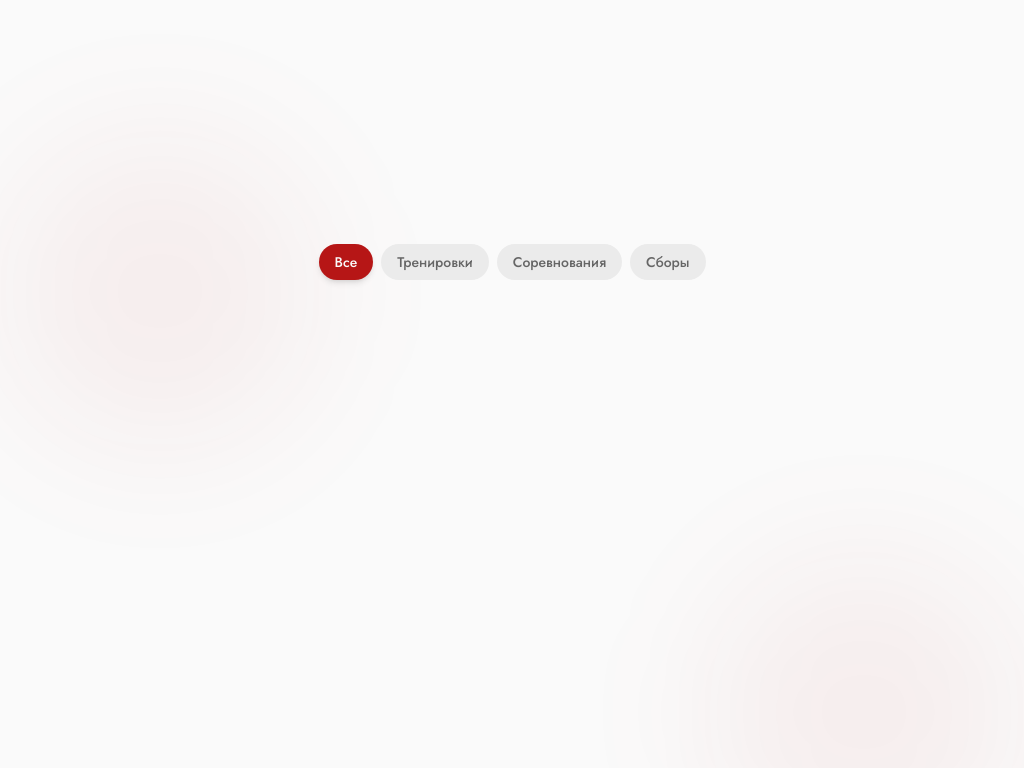
Gallery Component › renders fallback default photos when API fails
# Category tabs still work on fallback
Click the tab "Тренировки" at (435, 262), box [381,244,489,280]
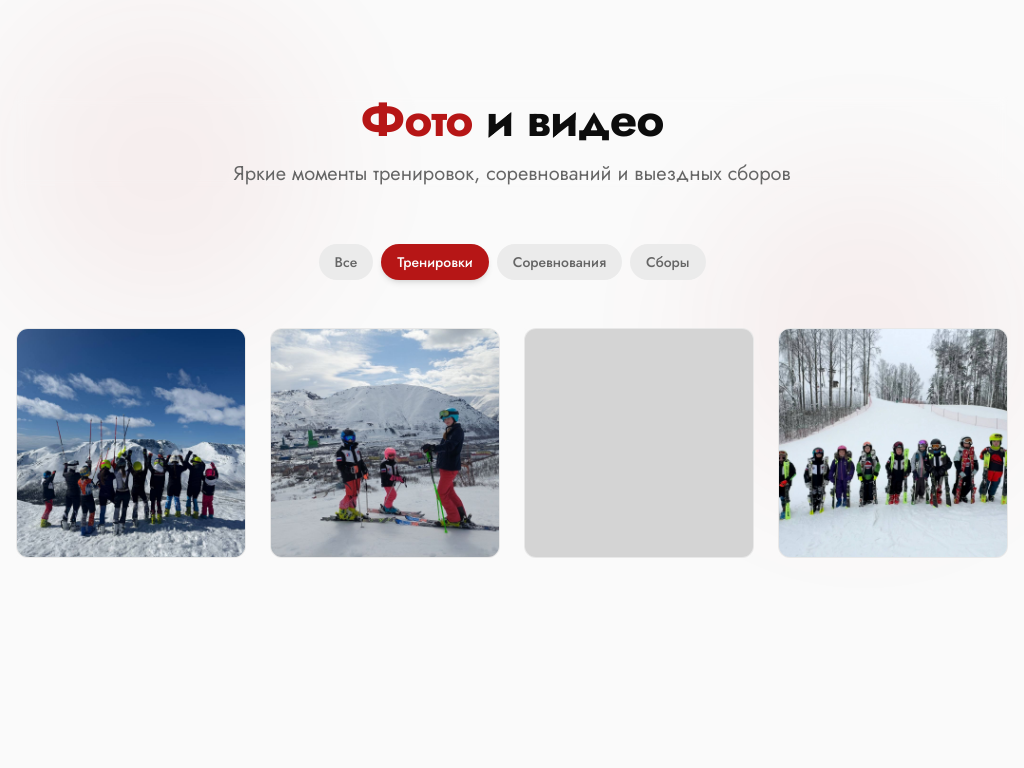
expect the element with test id "gallery-item-1" is shown: met
expect the element with test id "gallery-item-2" is shown: met, box [270,328,500,558]
expect the element with test id "gallery-item-4" is shown: met, box [778,328,1008,558]
# Lightbox opens for fallback item
Click the element with test id "gallery-item-1" at (131, 443), box [16,328,246,558]
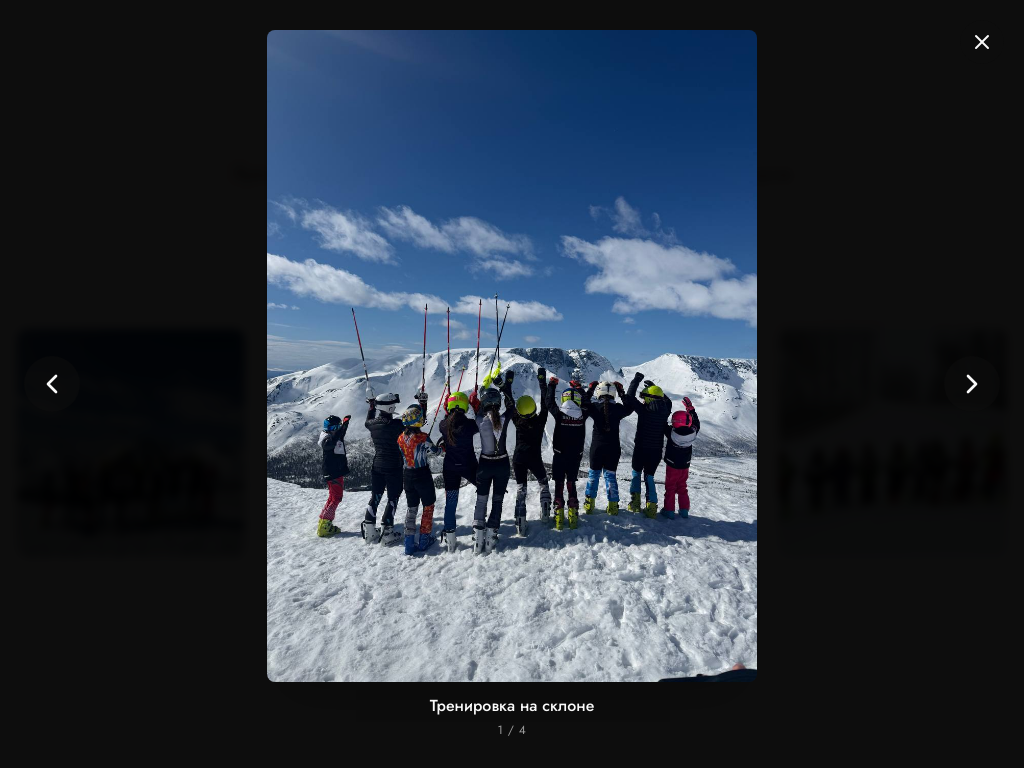
expect the dialog named "Просмотр фотографии" is shown: met
# Close on backdrop click
Click the dialog at (41, 31), box [0,0,1023,767]
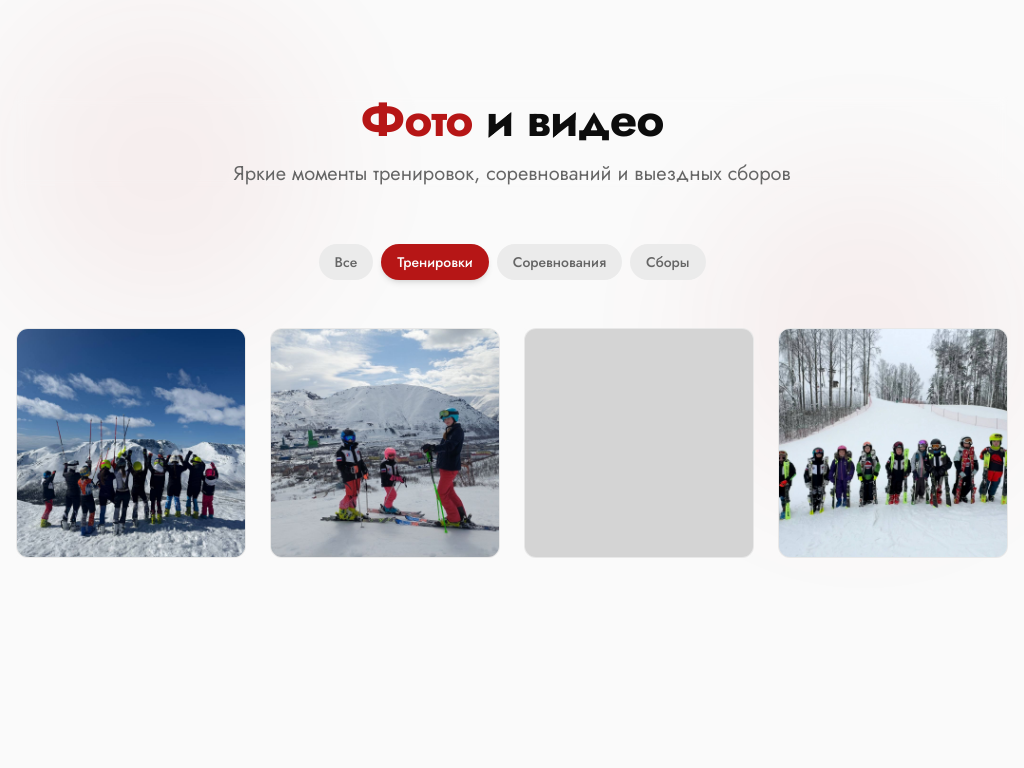
expect the dialog is gone: met
